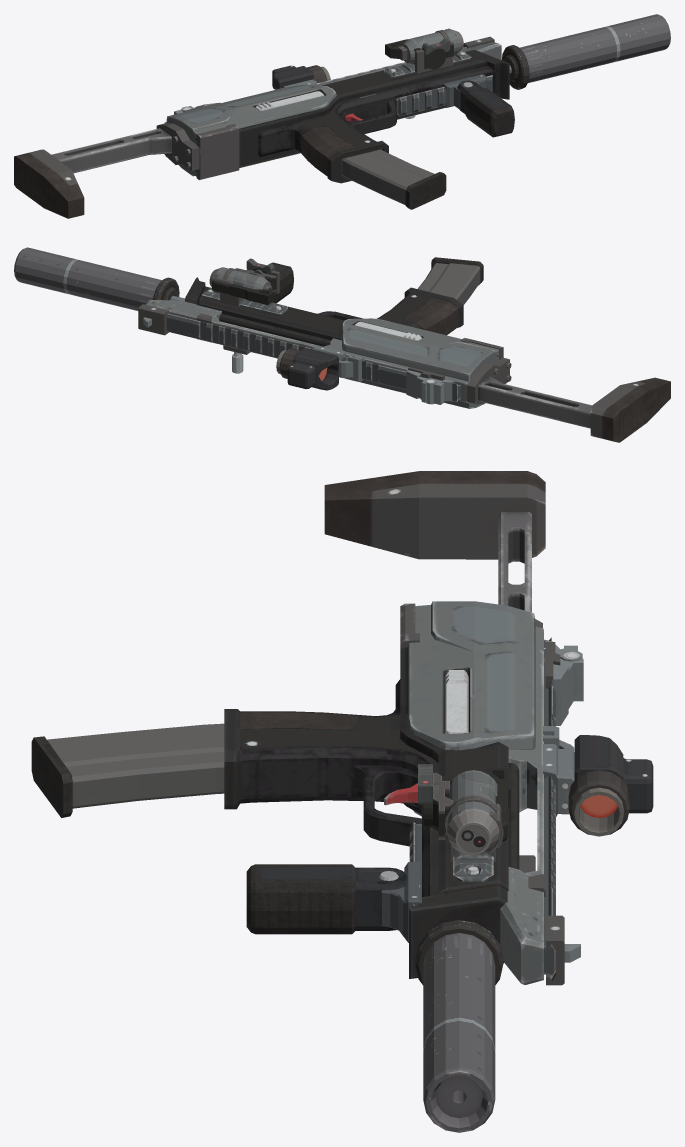
The picture shows the model from 3 angles, top to bottom: view 1: azimuth 30°, elevation 25°; view 2: azimuth 150°, elevation 25°; view 3: azimuth 270°, elevation 25°; orthographic projection. The views are drawn at different scales.
Parts seen in each view (by area): view 1: wp01c_a001a_sm.mo, wp01c_muzzle001a_sm.mo, wp01c_magazine001a_sm.mo, wp01c_attach001a_sm.mo, wp01c_scope001a_sm.mo; view 2: wp01c_a001a_sm.mo, wp01c_muzzle001a_sm.mo, wp01c_scope001a_sm.mo, wp01c_attach001a_sm.mo, wp01c_magazine001a_sm.mo; view 3: wp01c_a001a_sm.mo, wp01c_muzzle001a_sm.mo, wp01c_magazine001a_sm.mo, wp01c_scope001a_sm.mo, wp01c_attach001a_sm.mo.
Part boxes in pixels (left/top/right/bottom): wp01c_a001a_sm.mo: left=14, top=36, right=514, bottom=218; wp01c_muzzle001a_sm.mo: left=502, top=14, right=670, bottom=89; wp01c_magazine001a_sm.mo: left=342, top=149, right=446, bottom=209; wp01c_attach001a_sm.mo: left=385, top=28, right=463, bottom=73; wp01c_scope001a_sm.mo: left=272, top=65, right=330, bottom=89; wp01c_a001a_sm.mo: left=138, top=262, right=670, bottom=442; wp01c_muzzle001a_sm.mo: left=14, top=247, right=179, bottom=310; wp01c_scope001a_sm.mo: left=276, top=346, right=363, bottom=390; wp01c_attach001a_sm.mo: left=209, top=258, right=279, bottom=306; wp01c_magazine001a_sm.mo: left=418, top=257, right=483, bottom=304; wp01c_a001a_sm.mo: left=224, top=471, right=583, bottom=985; wp01c_muzzle001a_sm.mo: left=415, top=920, right=503, bottom=1132; wp01c_magazine001a_sm.mo: left=31, top=723, right=224, bottom=817; wp01c_scope001a_sm.mo: left=543, top=726, right=653, bottom=836; wp01c_attach001a_sm.mo: left=418, top=764, right=510, bottom=861.
Size of the model in its own units: 0.6715 by 0.0945 by 0.2938.
Materials: 6 (6 with a texture image).
